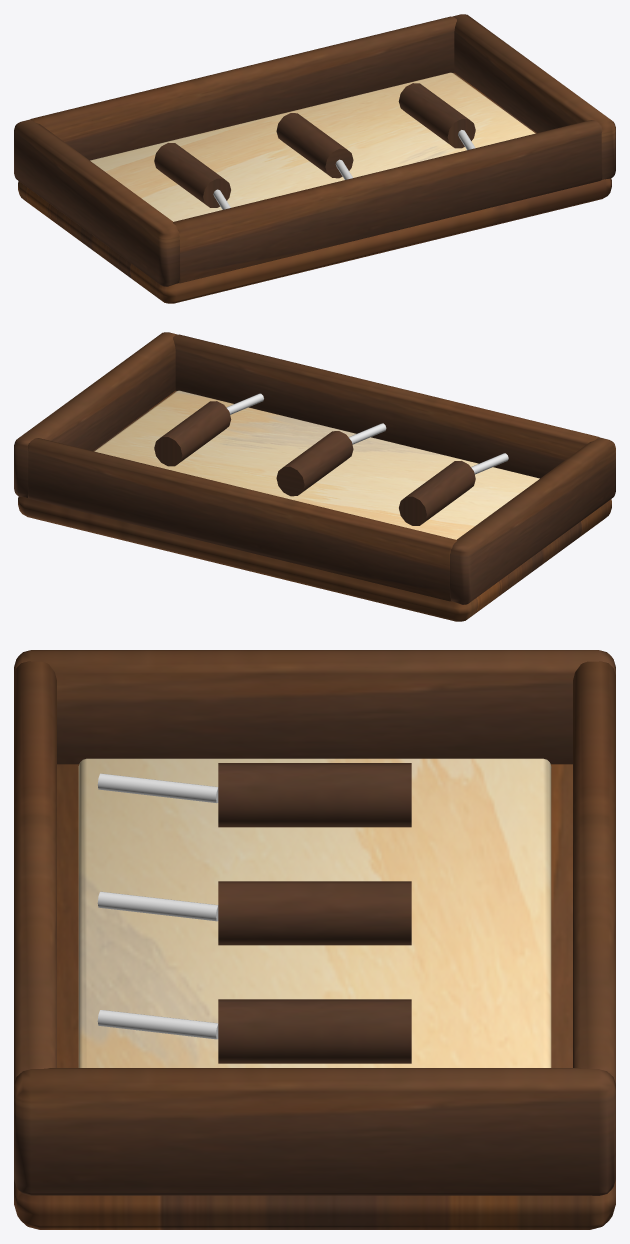
Rendered from CM_AF01_InstrumentTray.fbx.
3 views of the same model, one above another, from view 1: azimuth 30°, elevation 25°; view 2: azimuth 150°, elevation 25°; view 3: azimuth 270°, elevation 25° (orthographic). The views are drawn at different scales.
Parts seen in each view (by area): view 1: CM_AF01_InstrumentTray; view 2: CM_AF01_InstrumentTray; view 3: CM_AF01_InstrumentTray.
Part boxes in pixels (x1,y1,x2,y2): CM_AF01_InstrumentTray: (14,14,615,303); CM_AF01_InstrumentTray: (14,332,615,621); CM_AF01_InstrumentTray: (14,650,615,1229).
Bounding box in the file's own units: 0.485 × 0.08 × 0.28.
